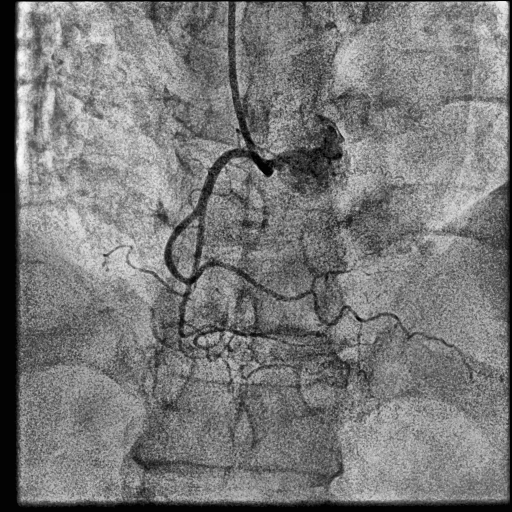pborca: (310, 271, 344, 290)
pda: (312, 291, 454, 348)
rca: (164, 148, 313, 301)
